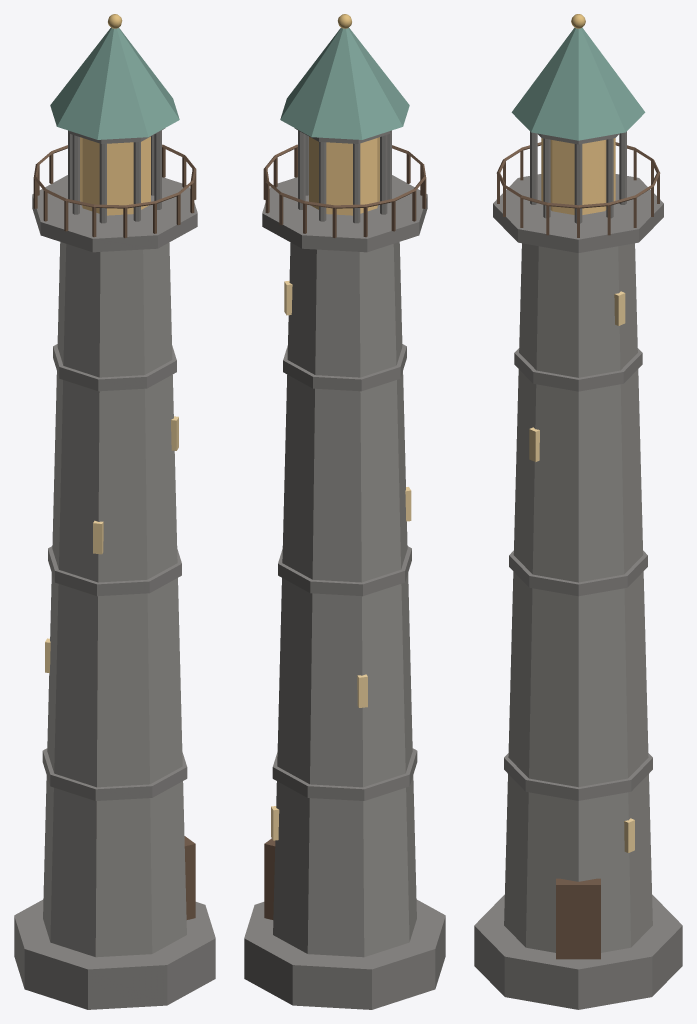
Rendered from SM_LanternTower.fbx.
The picture shows the model from 3 angles, left to right: view 1: azimuth 30°, elevation 25°; view 2: azimuth 150°, elevation 25°; view 3: azimuth 270°, elevation 25°; orthographic projection.
Visible parts, largest first — view 1: SM_LanternTower; view 2: SM_LanternTower; view 3: SM_LanternTower.
Part boxes in pixels (x1,y1,x2,y2): SM_LanternTower: (14,14,215,1009); SM_LanternTower: (244,14,445,1009); SM_LanternTower: (474,14,682,1009).
Size of the model in its own units: 5.6 by 28.2 by 5.6.
